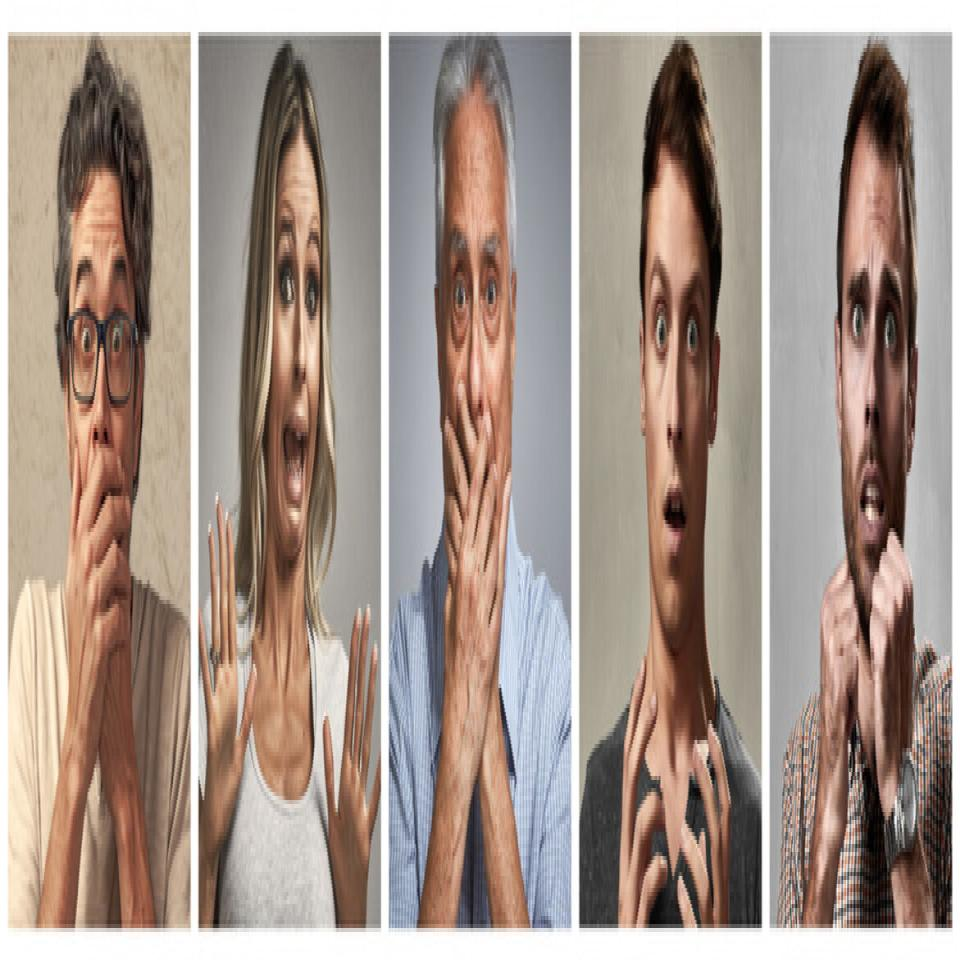Scared: (439, 98, 515, 721), (67, 151, 138, 725), (842, 156, 907, 618), (650, 183, 704, 672), (266, 142, 320, 562)
